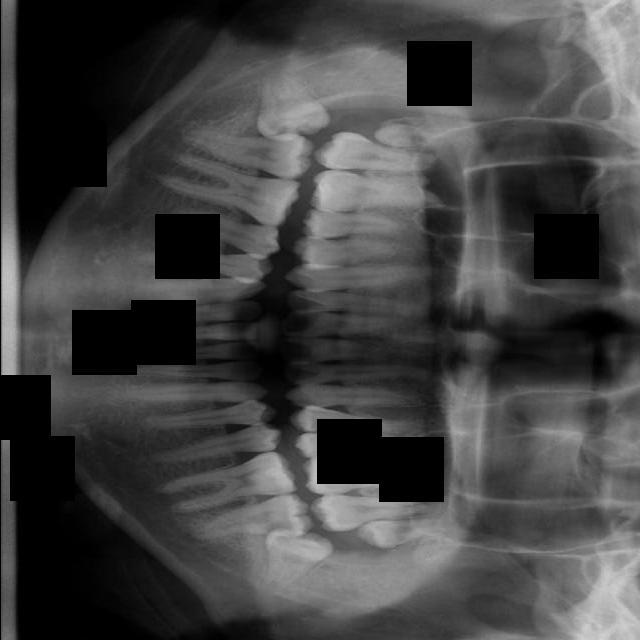3M ESPE Implant: (376, 124, 439, 147)
73: (37, 618, 53, 630)
BioHorizons Implant: (309, 493, 427, 533)
BioLife Implant: (354, 516, 445, 550)
Biomet 3i Implant: (256, 525, 336, 600)
Blue Sky Bio Implant: (185, 488, 315, 562)
Caries: (313, 131, 436, 172)
Implant: (182, 127, 315, 183)
Keystone Dental Implant: (244, 67, 334, 150)
